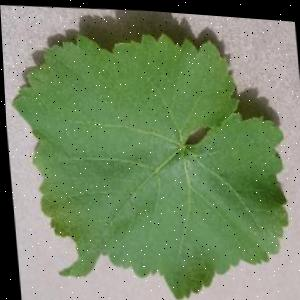Folha: (2, 18, 294, 300)
